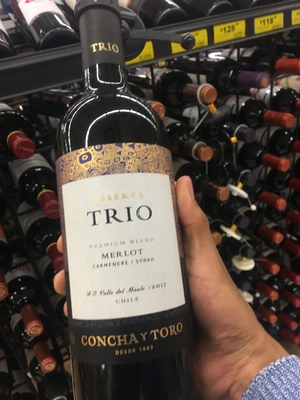trio merlot: (52, 11, 209, 384)
